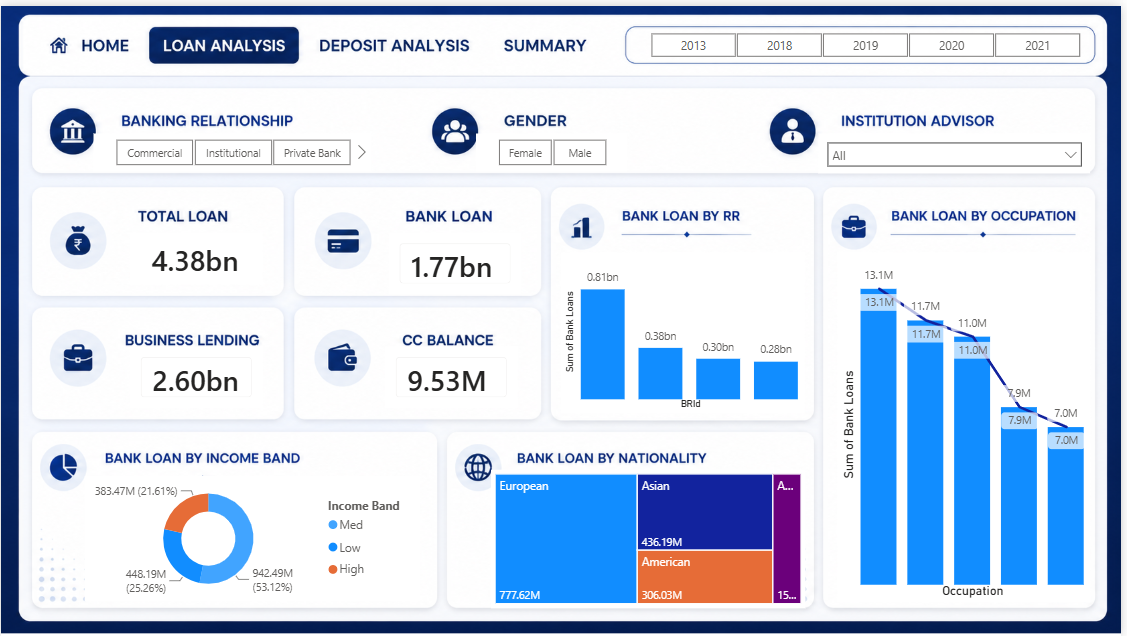

The page's visual inventory and layout, read from the dashboard file:
{"tool":"powerbi","page":{"name":"LOAN ANALYSIS","canvas":[1280,720],"ordinal":1},"visuals":[{"type":"actionButton","box":[16,24.5,99.4,40.5],"z":0},{"type":"actionButton","box":[530.1,24.5,131.3,40.5],"z":1000},{"type":"actionButton","box":[169.3,24.5,170.6,40.5],"z":2000},{"type":"cardVisual","fields":{"Data":["Banking.Total Loan"]},"box":[143.6,254,162,69.9],"z":3000},{"type":"cardVisual","fields":{"Data":["Sum(Banking.Bank Loans)"]},"box":[439.3,254,162,81],"z":4000},{"type":"cardVisual","fields":{"Data":["Sum(Banking.Business Lending)"]},"box":[143.6,384.1,162,81],"z":5000},{"type":"cardVisual","fields":{"Data":["Sum(Banking.Credit Card Balance)"]},"box":[434.4,384.1,162,81],"z":6000},{"type":"slicer","fields":{"Values":["Banking.Year of JoiN"]},"box":[716.6,24.5,539.9,40.5],"z":7000},{"type":"donutChart","fields":{"Category":["Banking.Income Band"],"Y":["Sum(Banking.Bank Loans)"]},"box":[95.7,537.4,382.8,143.6],"z":8000},{"type":"clusteredColumnChart","fields":{"Category":["Banking.BRId"],"Y":["Sum(Banking.Bank Loans)"]},"box":[640.5,281,278.5,184.1],"z":9000},{"type":"treemap","fields":{"Group":["Banking.Nationality"],"Values":["Sum(Banking.Bank Loans)"]},"box":[559.5,530.1,359.5,158.3],"z":10000},{"type":"slicer","fields":{"Values":["Banking.BRId"]},"box":[105.5,146,317.8,42.9],"z":11000},{"type":"slicer","fields":{"Values":["Banking.GenderId"]},"box":[543.6,146,173,42.9],"z":12000},{"type":"slicer","fields":{"Values":["Banking.IAId"]},"box":[933.7,146,310.4,45.4],"z":13000},{"type":"lineStackedColumnComboChart","fields":{"Category":["Banking.Occupation"],"Y":["Sum(Banking.Bank Loans)"],"Y2":["Sum(Banking.Bank Loans)"]},"box":[955.7,281.4,288.6,400],"z":14000},{"type":"actionButton","box":[358.6,24.3,184.3,40],"z":15000}]}

Visuals, with their boxes in screenshot pixels (x1, y1, x2, y2), scaled from the page's 1280x720 canvas onto the 1127x636 screenshot:
actionButton: (14,22,102,57)
actionButton: (467,22,582,57)
actionButton: (149,22,299,57)
cardVisual - Banking.Total Loan: (126,224,269,286)
cardVisual - Sum(Banking.Bank Loans): (387,224,529,296)
cardVisual - Sum(Banking.Business Lending): (126,339,269,411)
cardVisual - Sum(Banking.Credit Card Balance): (382,339,525,411)
slicer - Banking.Year of JoiN: (631,22,1106,57)
donutChart - Banking.Income Band x Sum(Banking.Bank Loans): (84,475,421,602)
clusteredColumnChart - Banking.BRId x Sum(Banking.Bank Loans): (564,248,809,411)
treemap - Banking.Nationality x Sum(Banking.Bank Loans): (493,468,809,608)
slicer - Banking.BRId: (93,129,373,167)
slicer - Banking.GenderId: (479,129,631,167)
slicer - Banking.IAId: (822,129,1095,169)
lineStackedColumnComboChart - Banking.Occupation x Sum(Banking.Bank Loans): (841,249,1096,602)
actionButton: (316,21,478,57)
